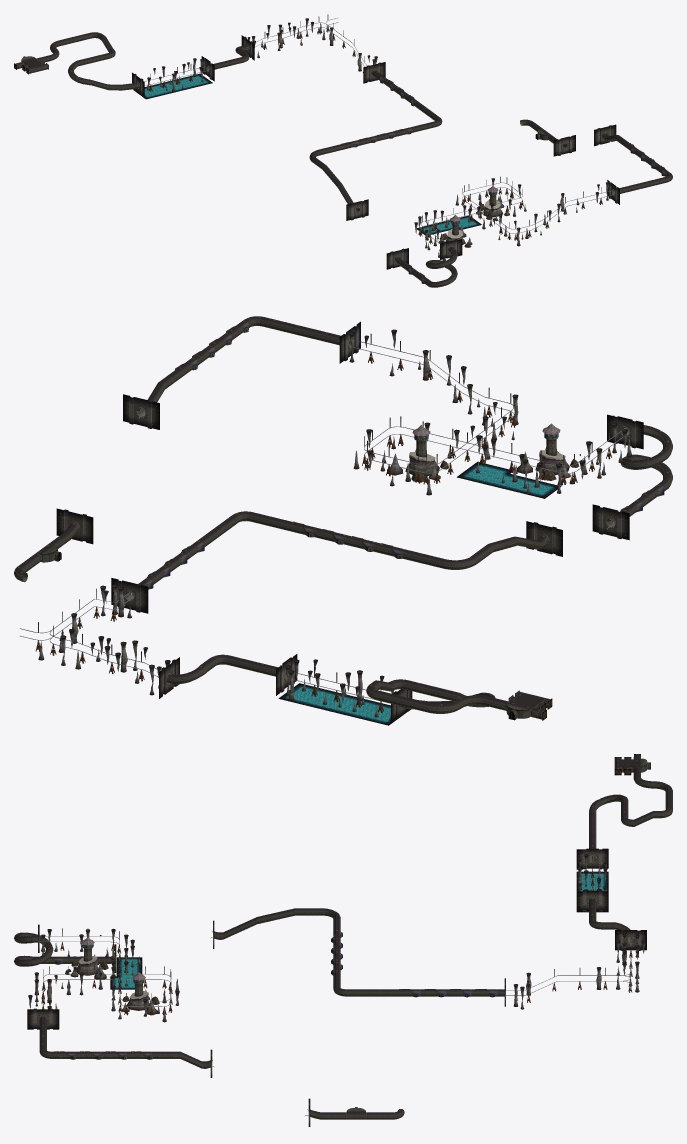
The picture shows the model from 3 angles, top to bottom: view 1: azimuth 30°, elevation 25°; view 2: azimuth 150°, elevation 25°; view 3: azimuth 270°, elevation 25°; orthographic projection. The views are drawn at different scales.
Bounding box in the file's own units: 383 × 81.62 × 413.
